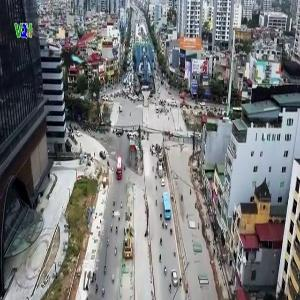drone: (20, 15, 115, 110)
